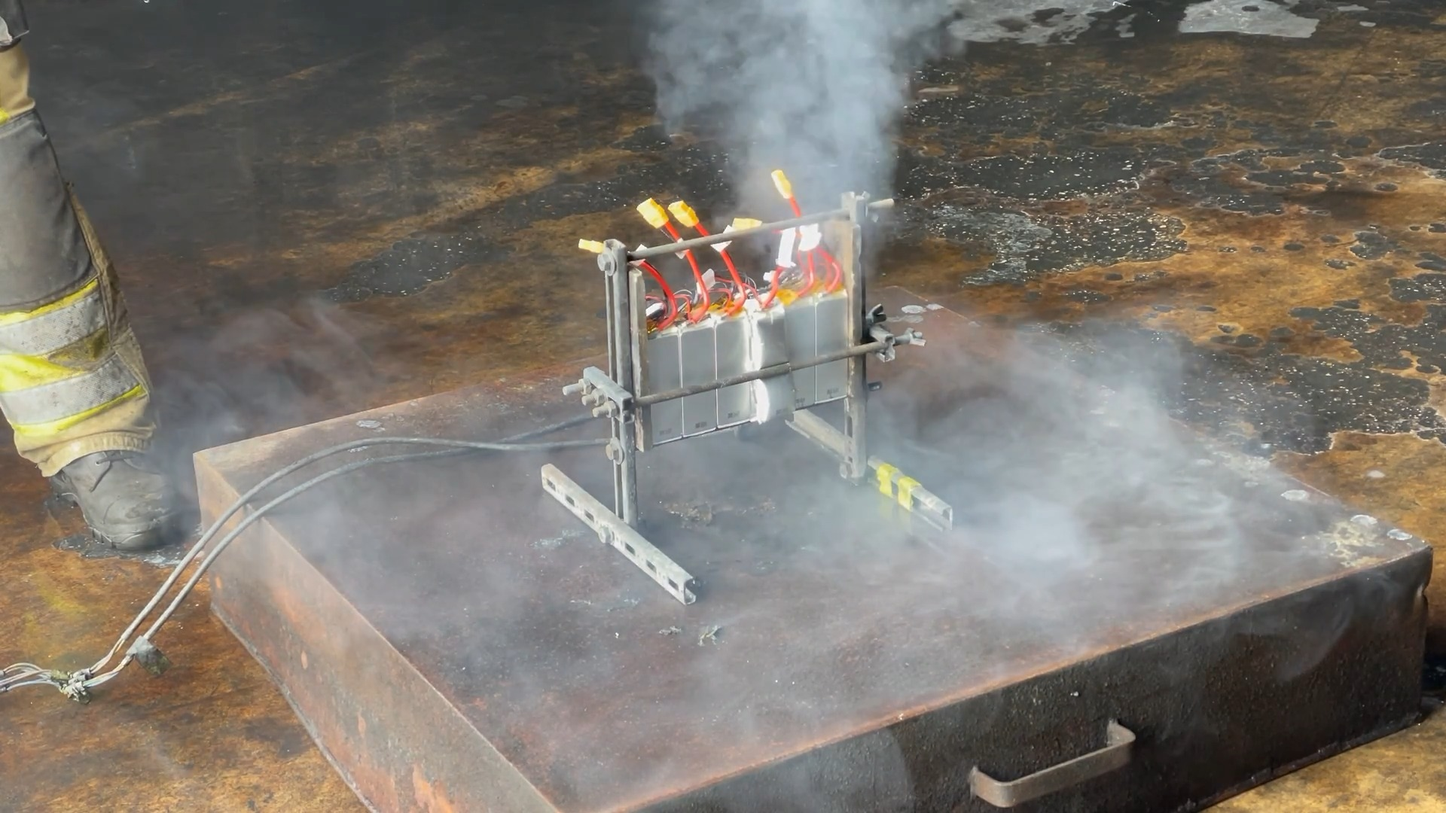smoke: (119, 290, 801, 753), (858, 297, 1317, 615), (619, 0, 990, 300)
